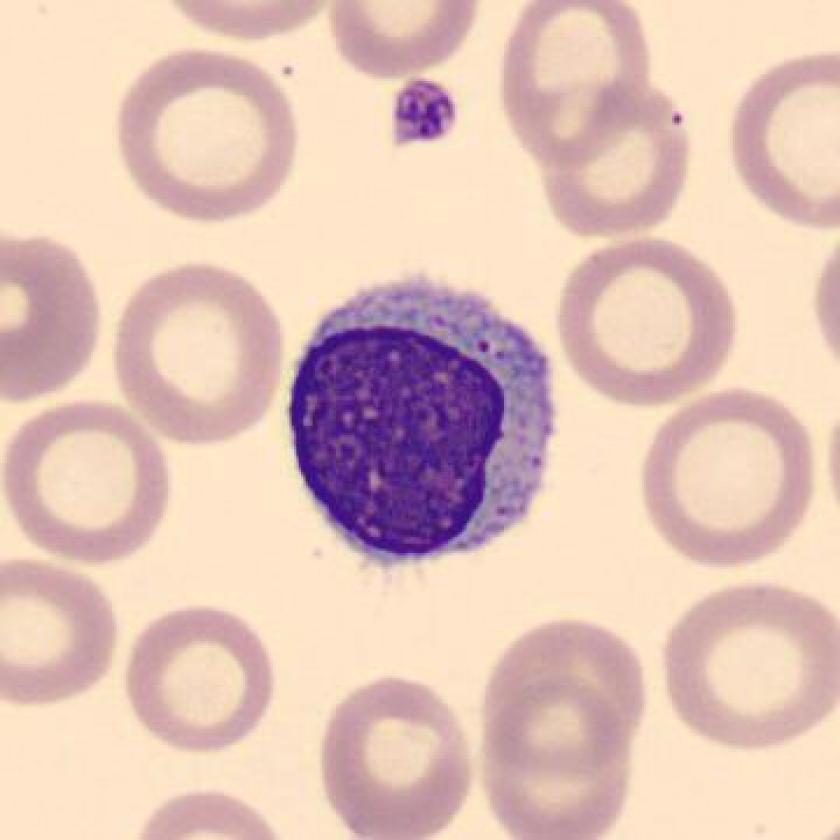lymphocyte: (267, 258, 566, 593)
